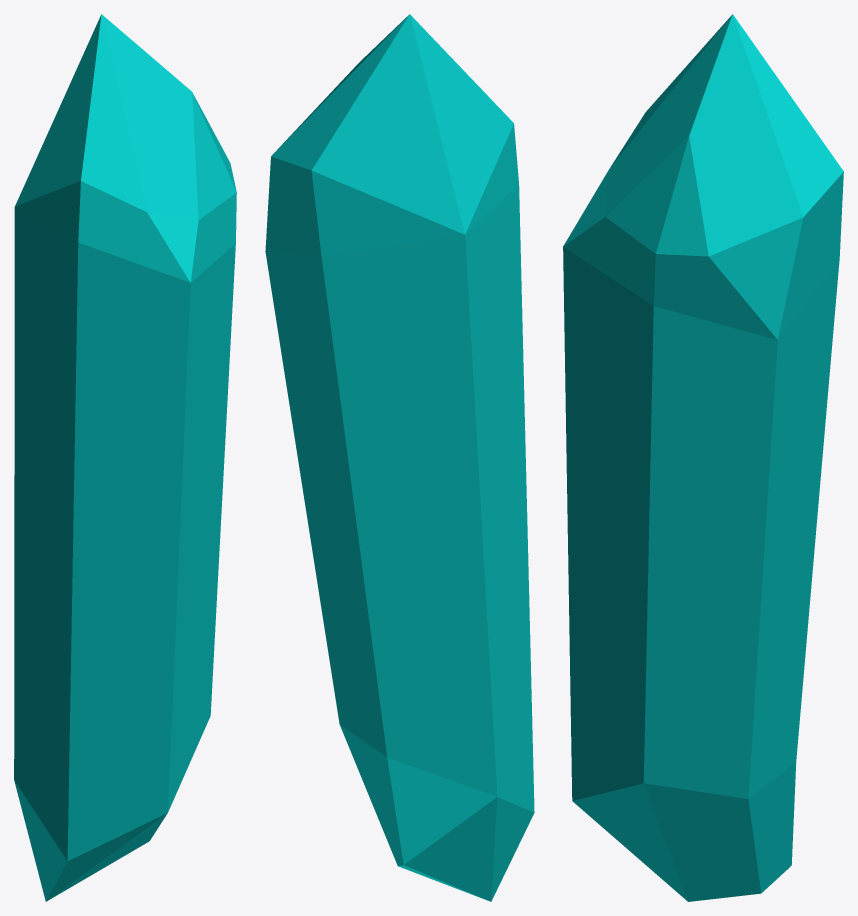
File: dfk_crystal_01.fbx
The picture shows the model from 3 angles, left to right: view 1: azimuth 30°, elevation 25°; view 2: azimuth 150°, elevation 25°; view 3: azimuth 270°, elevation 25°; orthographic projection. The views are drawn at different scales.
Visible parts, largest first — view 1: Crystal01; view 2: Crystal01; view 3: Crystal01.
Boxes of the visible parts, bbox=[...] form: Crystal01: bbox=[14, 14, 236, 901]; Crystal01: bbox=[265, 14, 534, 901]; Crystal01: bbox=[563, 14, 843, 901].
Size of the model in its own units: 0.1454 by 0.5793 by 0.1602.
